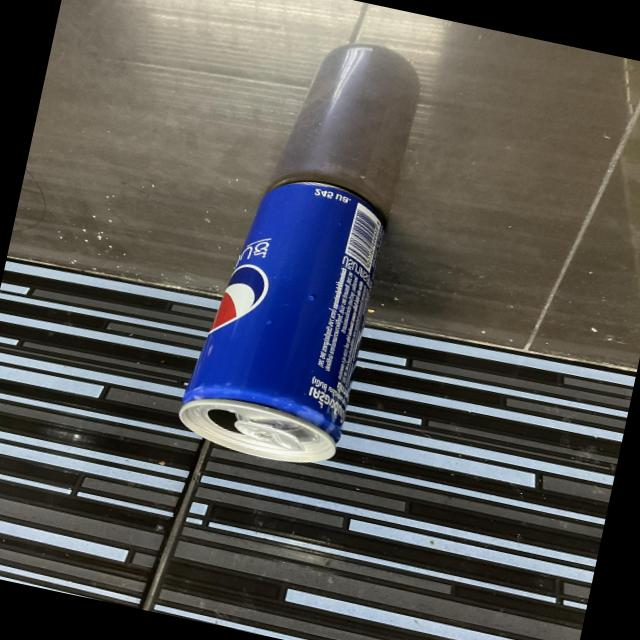can: (171, 161, 397, 478)
